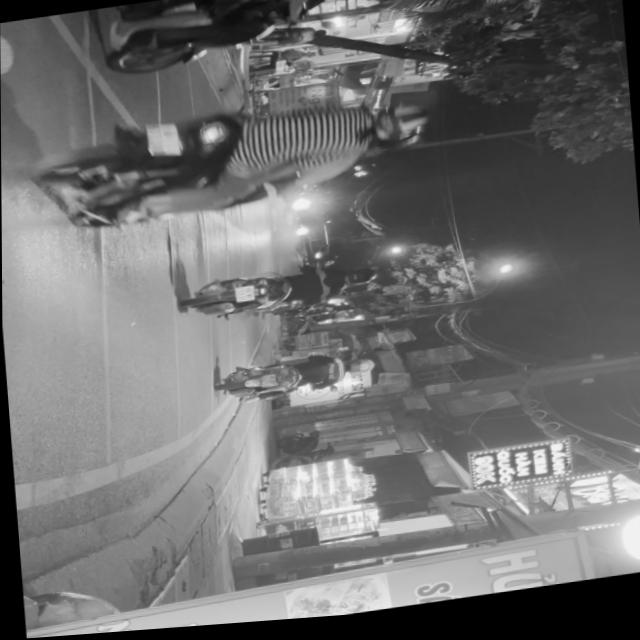helmet: (360, 102, 434, 152), (342, 270, 379, 292)
licenseplate: (23, 75, 458, 245), (182, 257, 380, 329)
nohelmet: (147, 121, 182, 159), (234, 287, 254, 305)
